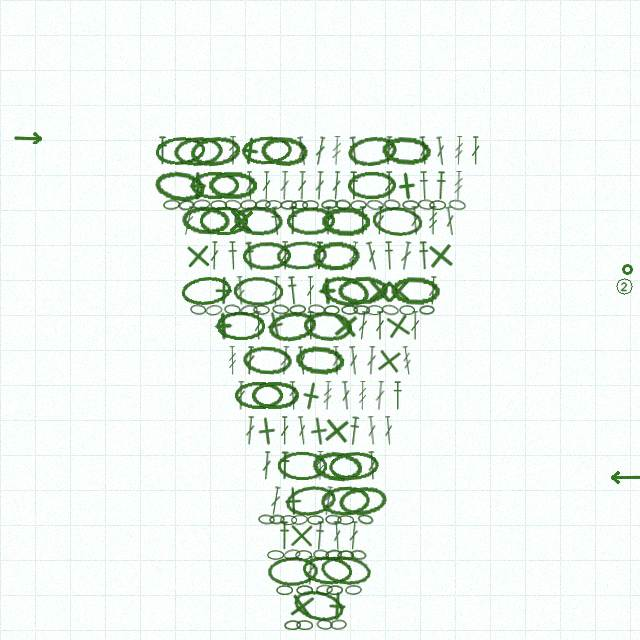chain: (291, 586, 346, 625), (319, 272, 372, 310), (266, 308, 319, 344), (153, 168, 206, 204), (319, 553, 372, 588), (284, 483, 337, 518), (371, 204, 424, 238), (337, 484, 389, 518), (311, 449, 363, 483), (180, 274, 232, 308), (189, 134, 241, 168), (346, 134, 398, 168), (301, 554, 354, 587), (294, 344, 345, 377), (154, 135, 206, 167), (328, 450, 379, 482), (302, 310, 353, 342), (173, 135, 223, 167), (381, 135, 431, 167), (320, 485, 371, 516), (337, 275, 388, 306), (276, 240, 327, 271), (233, 205, 284, 236), (241, 135, 292, 166), (260, 135, 309, 167), (267, 556, 319, 586), (242, 345, 292, 376), (181, 205, 231, 236), (233, 276, 284, 306), (312, 240, 361, 271), (390, 276, 440, 306), (286, 206, 336, 236), (242, 241, 291, 271), (321, 206, 370, 236), (277, 451, 327, 480), (216, 311, 266, 340), (199, 206, 249, 235), (190, 171, 240, 200), (347, 171, 397, 200), (234, 381, 283, 410), (251, 381, 300, 410), (208, 171, 257, 200), (283, 548, 301, 561), (357, 513, 374, 526), (205, 304, 223, 316), (240, 304, 258, 316), (381, 304, 399, 316), (224, 199, 242, 211), (366, 199, 384, 211), (448, 199, 466, 211), (350, 549, 367, 561), (178, 199, 195, 211), (383, 199, 401, 210), (316, 619, 333, 630), (330, 619, 347, 630), (316, 584, 333, 595), (325, 549, 342, 560), (258, 514, 275, 525), (291, 514, 308, 525), (325, 514, 342, 525), (224, 304, 241, 315), (272, 304, 289, 315), (289, 304, 306, 315), (308, 304, 325, 315), (163, 199, 180, 210), (193, 199, 210, 210), (240, 199, 257, 210), (321, 199, 338, 210), (418, 199, 435, 210), (313, 549, 329, 560), (269, 514, 285, 525), (190, 304, 206, 315), (255, 199, 271, 210), (335, 199, 351, 210), (284, 620, 301, 630), (296, 620, 313, 630), (276, 585, 293, 595), (296, 585, 313, 595), (326, 585, 343, 595), (345, 585, 362, 595), (267, 550, 284, 560), (295, 550, 312, 560), (337, 550, 354, 560), (280, 515, 297, 525), (307, 515, 324, 525), (337, 515, 354, 525), (253, 305, 270, 315), (341, 305, 358, 315), (353, 305, 370, 315), (366, 305, 383, 315), (210, 200, 227, 210), (265, 200, 282, 210), (280, 200, 297, 210), (291, 200, 308, 210), (302, 200, 319, 210), (350, 200, 367, 210), (402, 200, 419, 210), (429, 200, 446, 210), (324, 305, 340, 315), (399, 305, 415, 315), (419, 305, 435, 315)
double: (364, 241, 380, 271), (181, 206, 196, 236), (399, 241, 413, 271), (443, 206, 457, 236), (295, 136, 309, 166), (313, 136, 327, 166), (269, 486, 282, 516), (347, 241, 360, 271), (434, 136, 447, 166), (347, 346, 360, 375), (244, 416, 256, 445), (296, 416, 308, 445), (366, 416, 378, 445), (340, 381, 352, 410), (374, 381, 386, 410), (244, 346, 256, 375), (279, 346, 291, 375), (296, 346, 308, 375), (357, 311, 369, 340), (409, 206, 421, 235), (305, 556, 316, 585), (348, 521, 359, 550), (261, 451, 272, 480), (383, 416, 394, 445), (331, 346, 342, 375), (366, 346, 377, 375), (279, 171, 290, 200), (314, 171, 325, 200), (331, 171, 342, 200), (383, 136, 394, 165), (418, 136, 429, 165), (332, 521, 342, 550), (367, 451, 377, 480), (236, 381, 246, 410), (375, 311, 385, 340), (410, 311, 420, 340), (271, 276, 281, 305), (428, 276, 438, 305), (280, 241, 290, 270), (323, 206, 333, 235), (375, 206, 385, 235), (245, 171, 255, 200), (297, 171, 307, 200), (384, 171, 394, 200), (280, 416, 289, 445), (254, 311, 263, 340), (306, 276, 315, 305), (210, 241, 219, 270), (262, 171, 271, 200), (471, 136, 480, 165)
half_double: (347, 416, 361, 446), (243, 241, 257, 271), (269, 206, 283, 236), (347, 136, 361, 166), (313, 521, 326, 550), (286, 276, 299, 305), (227, 241, 239, 270), (313, 241, 325, 270), (383, 241, 395, 270), (418, 241, 430, 270), (418, 171, 430, 200), (435, 171, 447, 200), (279, 521, 290, 550), (279, 451, 290, 480), (392, 381, 403, 410), (305, 311, 316, 340), (287, 206, 298, 235), (357, 206, 368, 235), (348, 171, 359, 200), (157, 136, 168, 165)
noise: (608, 470, 640, 485), (614, 276, 635, 297), (13, 132, 44, 144), (620, 262, 634, 276)
single: (258, 308, 293, 343), (294, 379, 328, 413), (381, 309, 415, 343), (286, 590, 318, 622), (251, 415, 283, 447), (303, 415, 335, 447), (373, 345, 405, 377), (391, 170, 423, 202), (234, 135, 266, 167), (321, 415, 352, 446), (330, 310, 361, 341), (425, 240, 456, 271), (322, 591, 352, 621), (278, 486, 308, 516), (365, 276, 395, 306), (383, 276, 413, 306), (183, 241, 213, 271), (226, 206, 256, 236), (209, 311, 238, 341), (313, 276, 342, 306), (287, 521, 316, 550), (209, 276, 238, 305), (183, 171, 212, 200)
treble: (321, 486, 335, 516), (401, 346, 413, 375), (322, 381, 333, 410), (235, 276, 246, 305), (453, 171, 464, 200), (331, 136, 342, 165), (315, 451, 325, 480), (288, 381, 298, 410), (428, 206, 438, 235), (228, 136, 238, 165), (454, 136, 464, 165), (358, 381, 367, 410), (228, 346, 237, 375)
